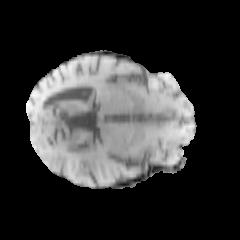glioma: (41, 131, 124, 171)
